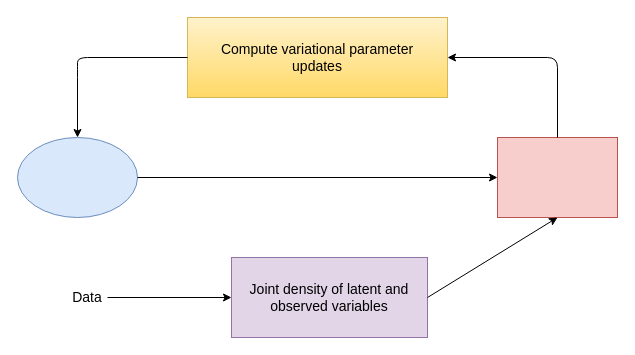
Image size: 635x355. Some labels were removed from this diagram. Here are the shapes that lost their labels. From the top down, the centre of each, then its label:
At [77,177]: "Variational density".
At [557,177]: "Compute ELBO".
